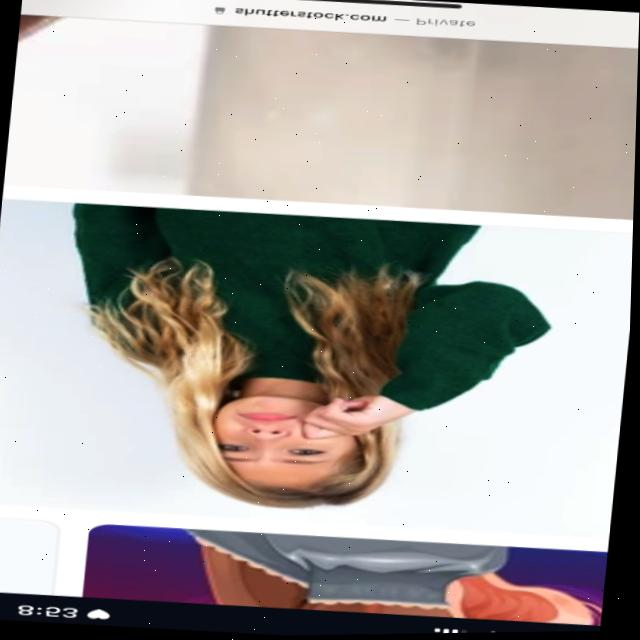sad: (200, 391, 385, 481)
